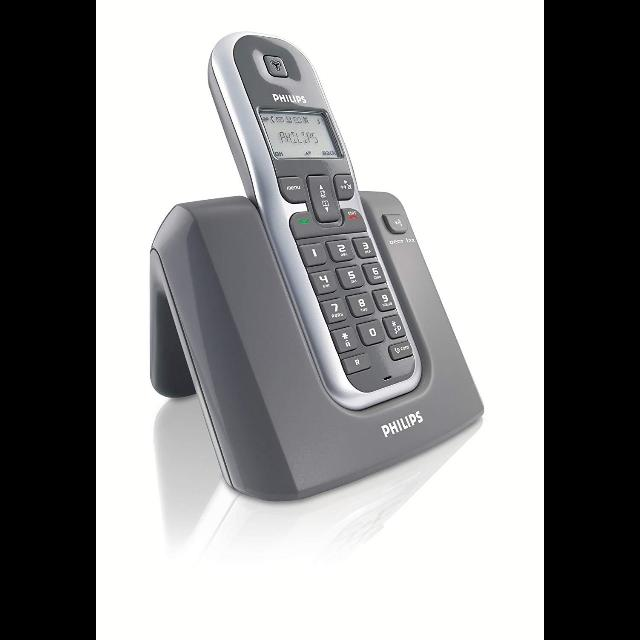Telephone-Set: (136, 31, 478, 487)
